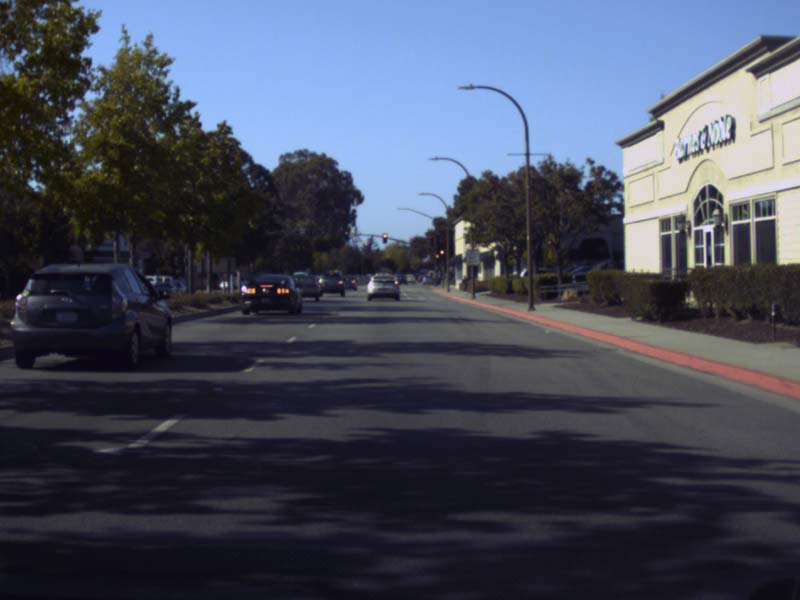Red: (381, 232, 387, 244)
Yellow: (438, 242, 445, 260), (343, 228, 348, 239), (435, 253, 440, 259)
